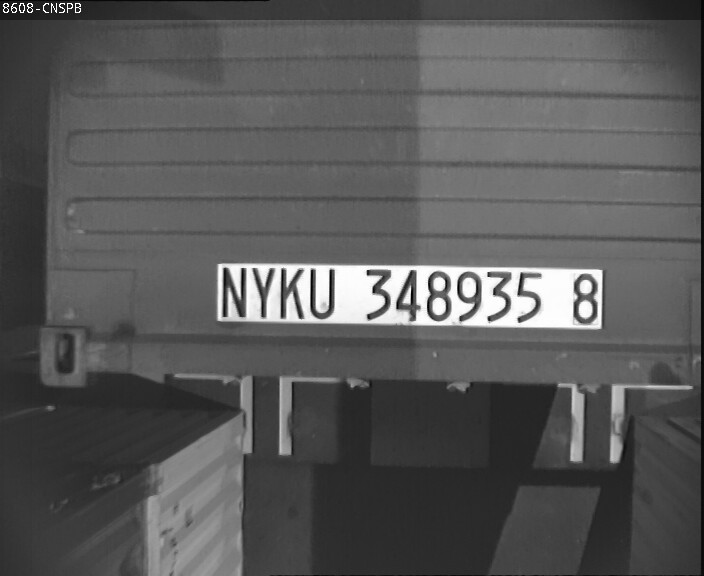groundmarker_1: (175, 371, 338, 454), (527, 381, 690, 463)
